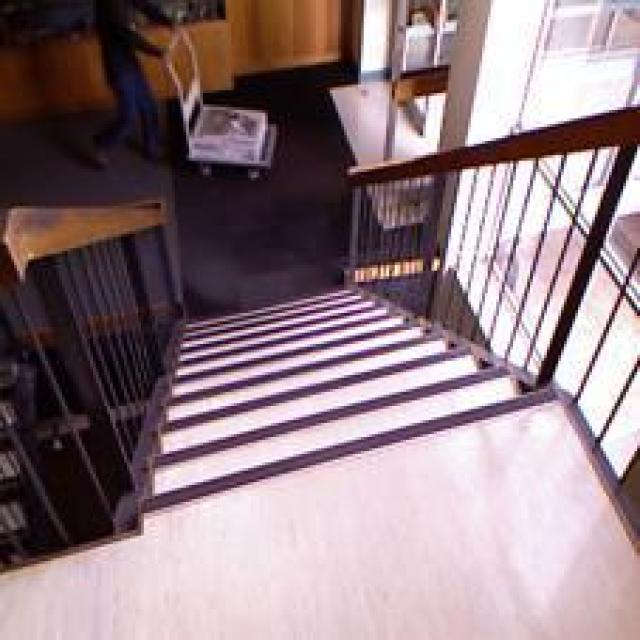downstair: (142, 354, 511, 523)
